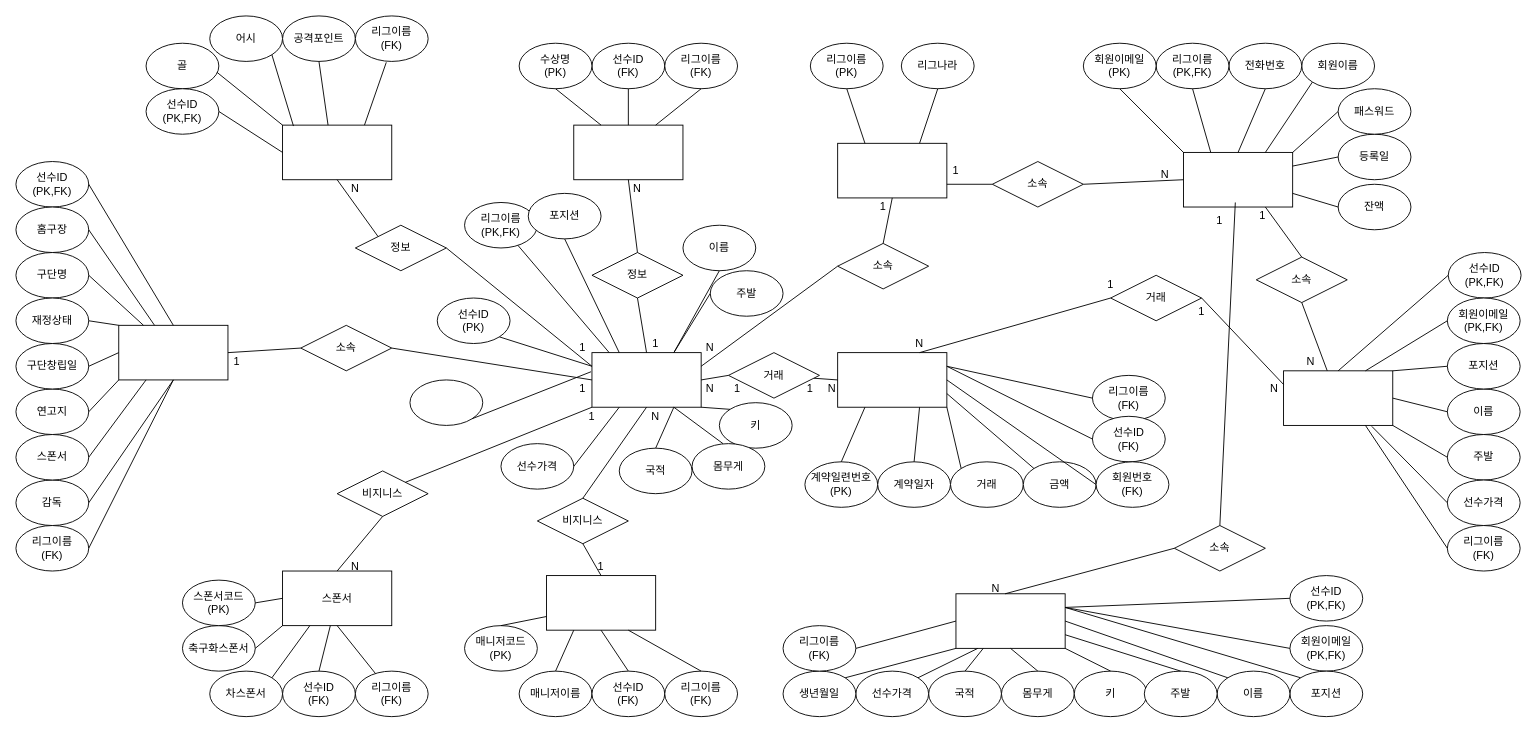
The diagram is 1537 pixels wide and 733 high, and some of its shapes have lost their labels. The centre of each missing label's shape, as x and y in pixels:
"계약" belongs at pixel 892 379.
"구단" belongs at pixel 173 352.
"나이" belongs at pixel 446 402.
"내 선수" belongs at pixel 1338 397.
"리그" belongs at pixel 892 170.
"매니저" belongs at pixel 601 602.
"선수" belongs at pixel 646 379.
"수상내역" belongs at pixel 628 152.
"전적" belongs at pixel 337 152.
"찜 목록" belongs at pixel 1010 620.
"회원" belongs at pixel 1238 179.
